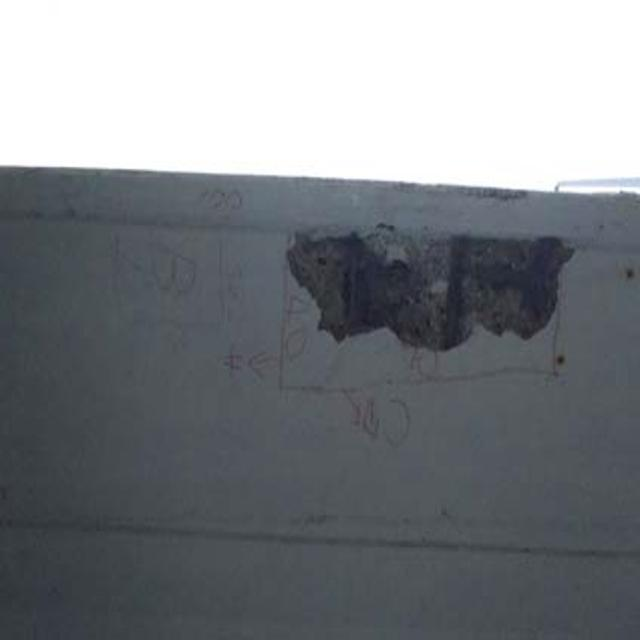spalling: (284, 210, 583, 366)
